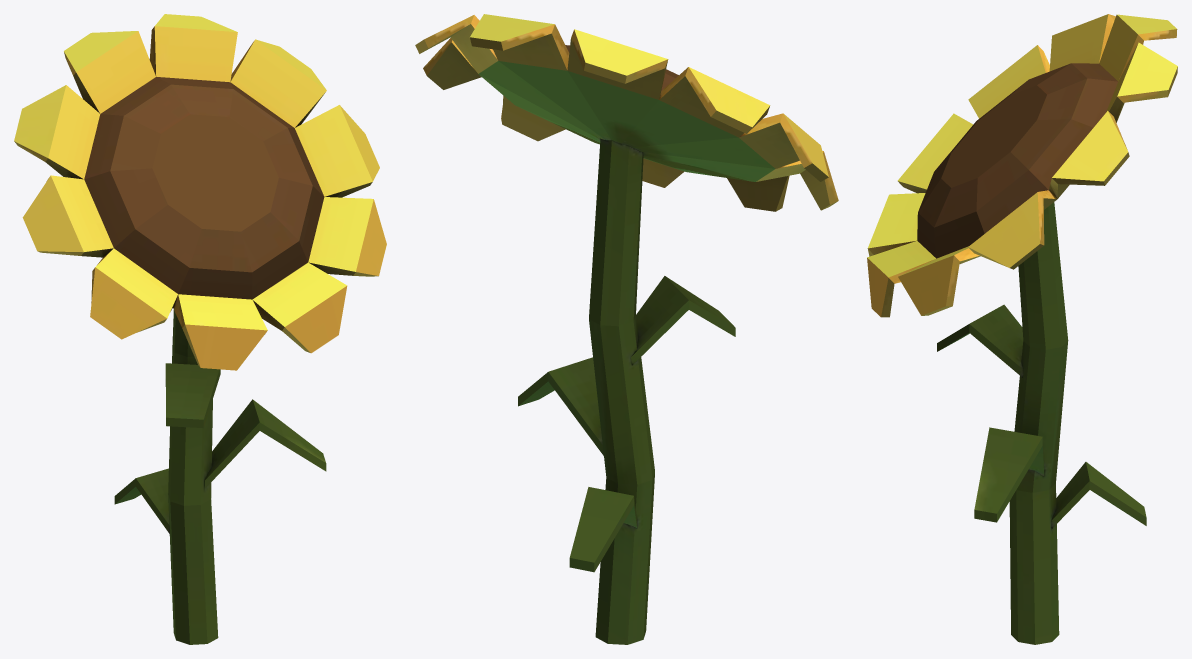
File: sunflower.glb
The picture shows the model from 3 angles, left to right: view 1: azimuth 30°, elevation 25°; view 2: azimuth 150°, elevation 25°; view 3: azimuth 270°, elevation 25°; orthographic projection. The views are drawn at different scales.
Parts seen in each view (by area): view 1: sunflower; view 2: sunflower; view 3: sunflower.
Part boxes in pixels (x1,y1,x2,y2): sunflower: [14, 14, 386, 644]; sunflower: [415, 14, 838, 644]; sunflower: [867, 14, 1177, 644].
Size of the model in its own units: 0.942 by 1.5 by 0.7086.
Materials: 1 (1 with a texture image).
